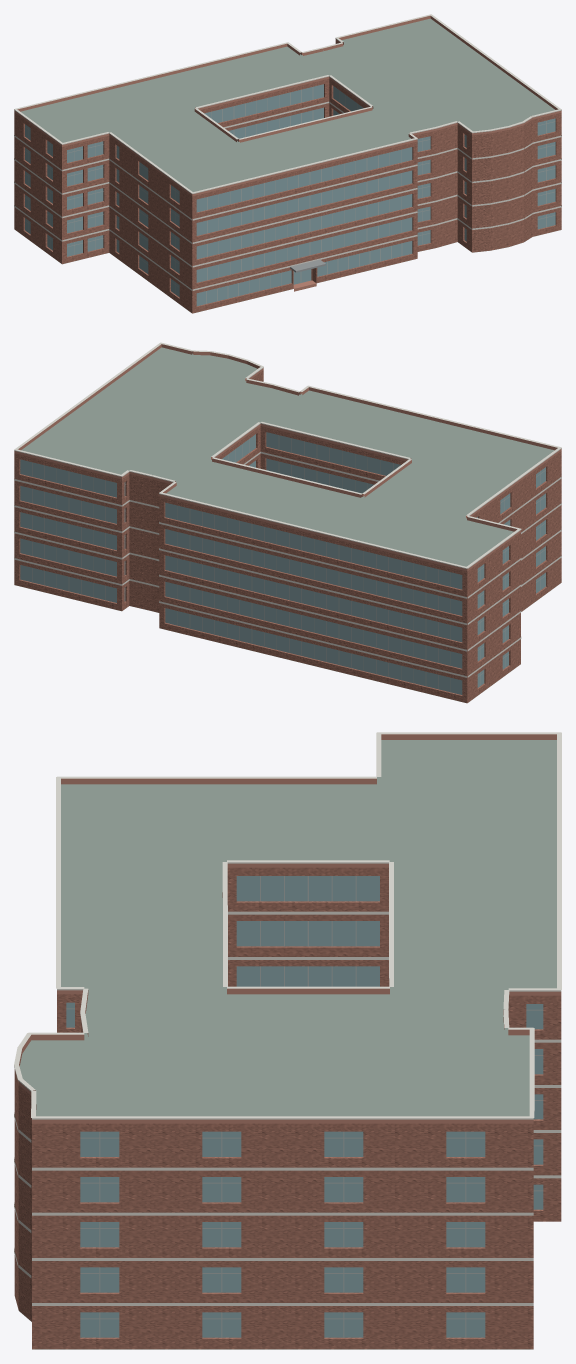
3 renders of one model, top to bottom at view 1: azimuth 30°, elevation 25°; view 2: azimuth 150°, elevation 25°; view 3: azimuth 270°, elevation 25°, orthographic. The views are drawn at different scales.
Visible parts, largest first — view 1: dasan__wall, dasan__roof, dasan__glass, dasan__trim, dasan__parapet, dasan__frame; view 2: dasan__roof, dasan__wall, dasan__glass, dasan__trim, dasan__parapet, dasan__frame; view 3: dasan__roof, dasan__wall, dasan__glass, dasan__trim, dasan__parapet, dasan__frame.
Part boxes in pixels (left/top/right/bottom): dasan__wall: left=14, top=41, right=561, bottom=313; dasan__roof: left=15, top=18, right=560, bottom=312; dasan__glass: left=25, top=84, right=555, bottom=306; dasan__trim: left=14, top=14, right=561, bottom=290; dasan__parapet: left=14, top=15, right=561, bottom=196; dasan__frame: left=25, top=87, right=555, bottom=303; dasan__roof: left=14, top=347, right=560, bottom=703; dasan__wall: left=14, top=370, right=561, bottom=703; dasan__glass: left=20, top=432, right=545, bottom=694; dasan__trim: left=14, top=342, right=561, bottom=677; dasan__parapet: left=14, top=344, right=561, bottom=571; dasan__frame: left=32, top=435, right=545, bottom=692; dasan__roof: left=19, top=740, right=556, bottom=1349; dasan__wall: left=14, top=867, right=561, bottom=1349; dasan__glass: left=66, top=876, right=543, bottom=1337; dasan__trim: left=14, top=732, right=561, bottom=1305; dasan__parapet: left=14, top=734, right=561, bottom=1123; dasan__frame: left=66, top=876, right=543, bottom=1337.
Bounding box in the file's own units: 66 × 18.85 × 39.59.
9 materials, 1 textured.
